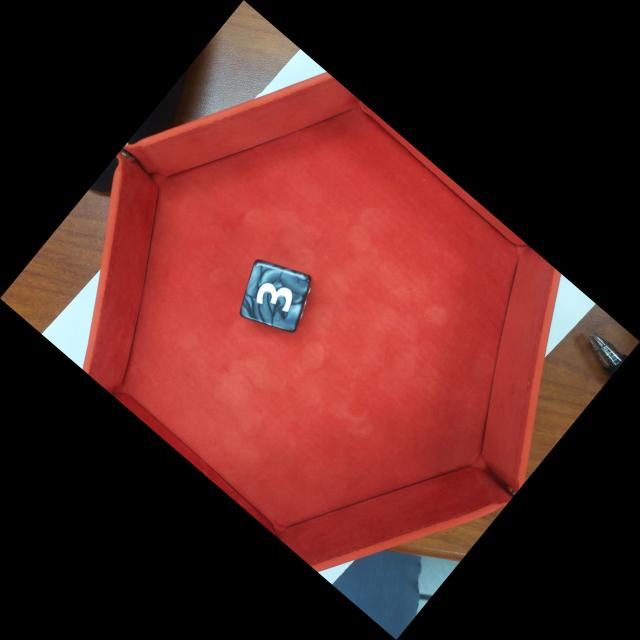dice: (237, 258, 313, 335)
